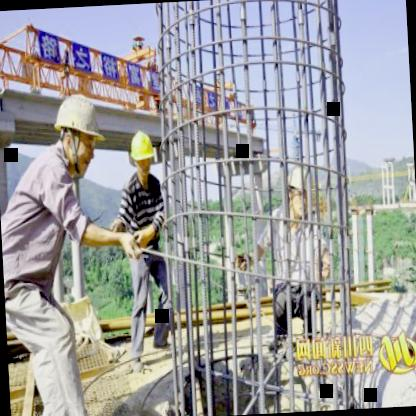helmet: (50, 88, 109, 176), (283, 160, 318, 220), (126, 127, 158, 182)
